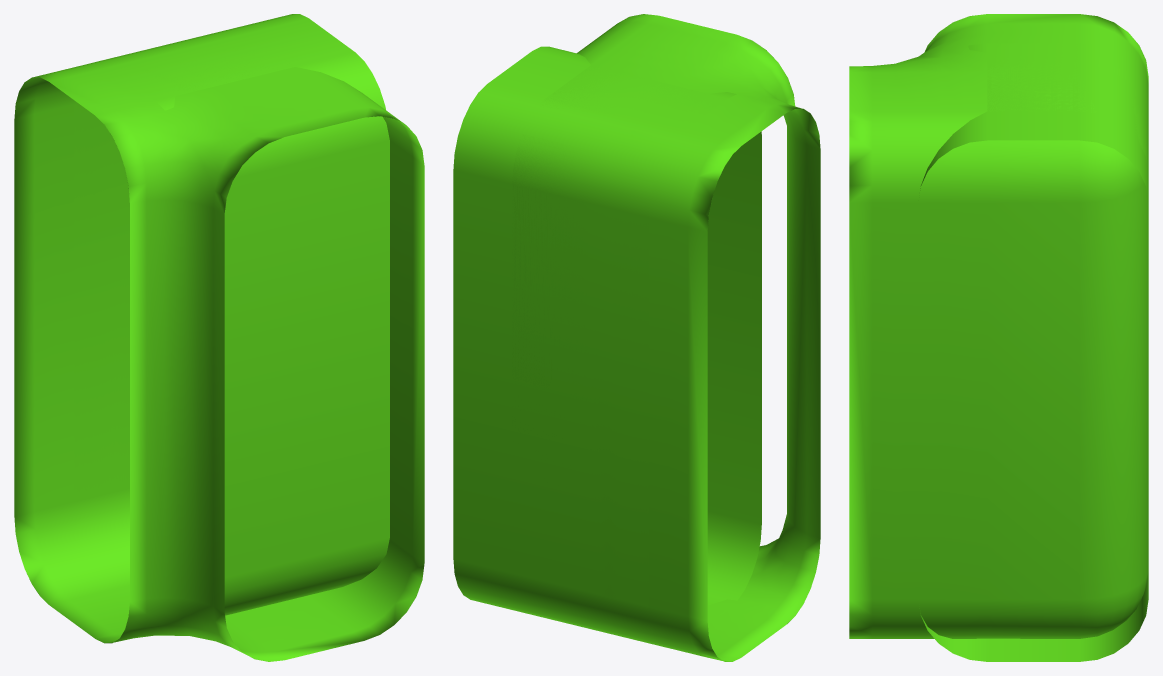
File: Low-Poly-Hedge.fbx
3 views of the same model, side by side, from view 1: azimuth 30°, elevation 25°; view 2: azimuth 150°, elevation 25°; view 3: azimuth 270°, elevation 25° (orthographic). The views are drawn at different scales.
Parts seen in each view (by area): view 1: Hedge_Corner, Hedge_Middle; view 2: Hedge_Middle, Hedge_Corner; view 3: Hedge_Corner, Hedge_Middle.
Boxes of the visible parts, x1=… form: Hedge_Corner: x1=14, y1=28, x2=424, y2=661; Hedge_Middle: x1=74, y1=14, x2=389, y2=615; Hedge_Middle: x1=453, y1=46, x2=761, y2=634; Hedge_Corner: x1=512, y1=14, x2=820, y2=661; Hedge_Corner: x1=849, y1=14, x2=1148, y2=638; Hedge_Middle: x1=919, y1=43, x2=1148, y2=661.
Size of the model in its own units: 130 by 250 by 130.
